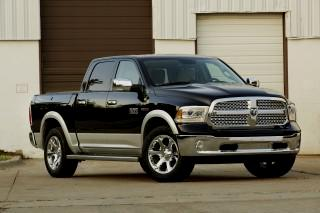ram: (246, 105, 262, 117)
